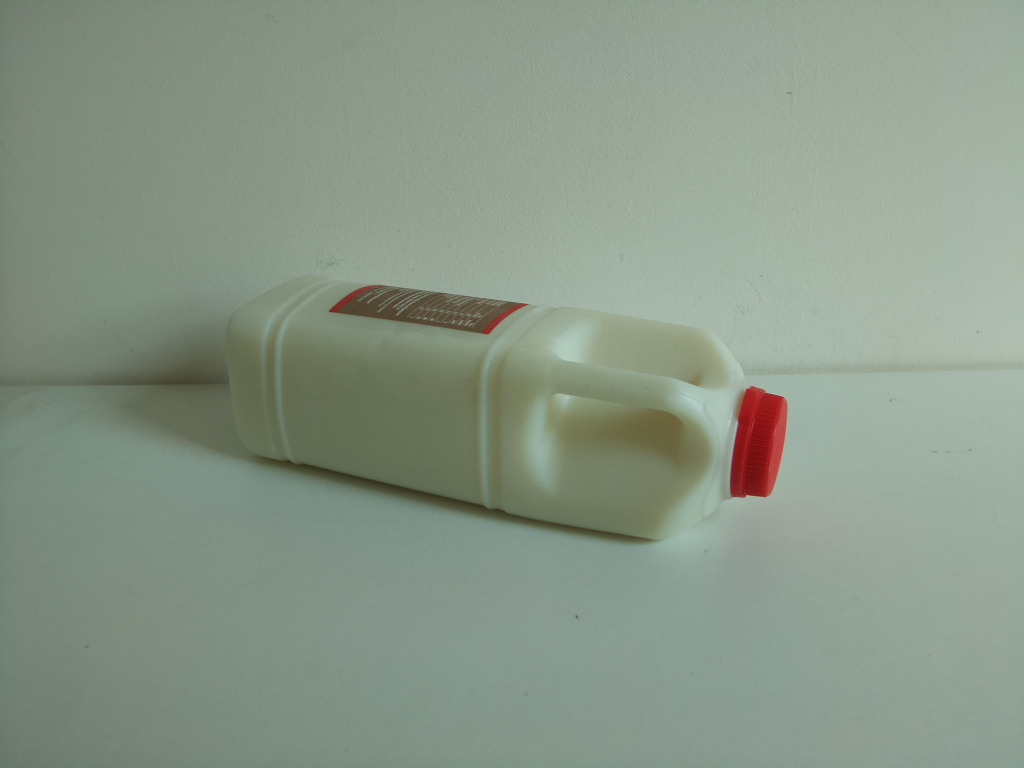milk: (217, 273, 784, 549)
